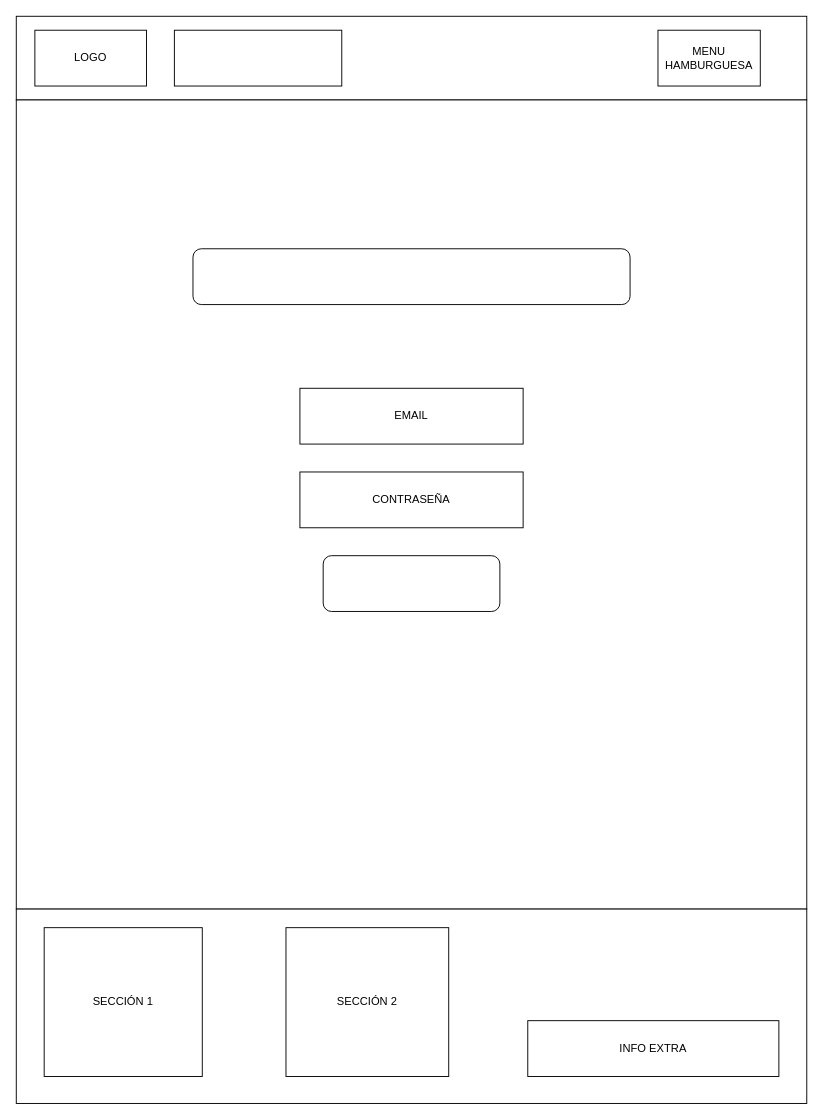
The diagram is 823 pixels wide and 1120 high, and some of its shapes have lost their labels. The centre of each missing label's shape, as x and y in pixels:
"INICIAR SESIÓN" goes at [411,583].
"NOMBRE DE EMPRESA" goes at [257,57].
"TÍTULO LOGIN USUARIOS" goes at [411,276].
